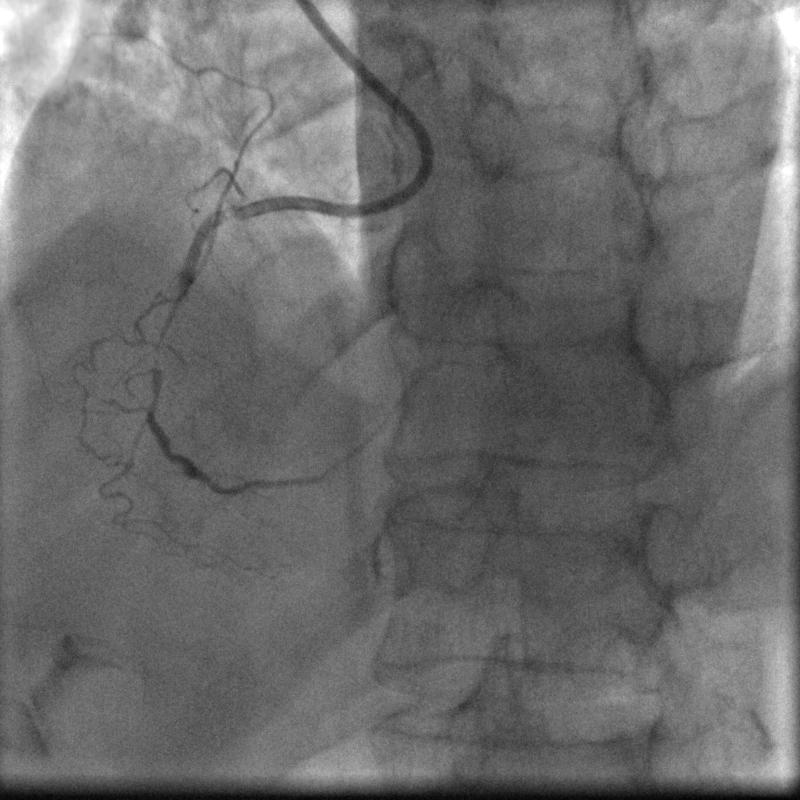Stenosis: (152, 275, 186, 373)
